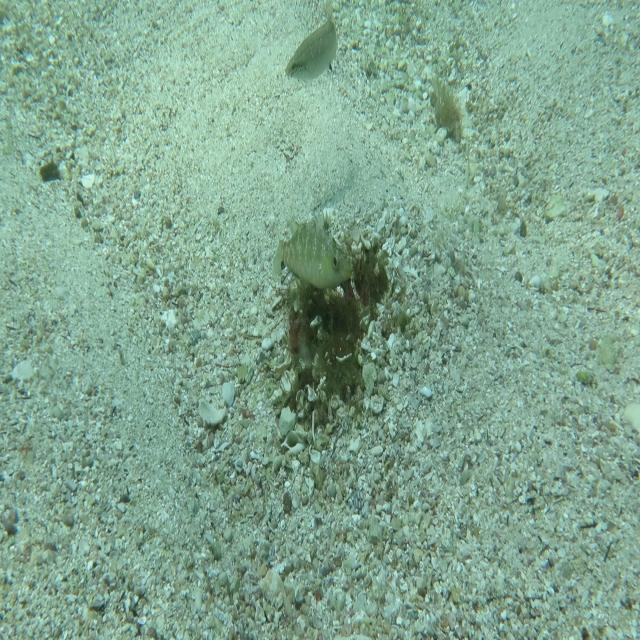FAN: (272, 206, 354, 291)
core_nest: (338, 266, 378, 304)
female: (284, 0, 339, 84)
nest: (273, 230, 403, 442)
vegetation: (428, 75, 462, 145), (39, 158, 60, 182)
